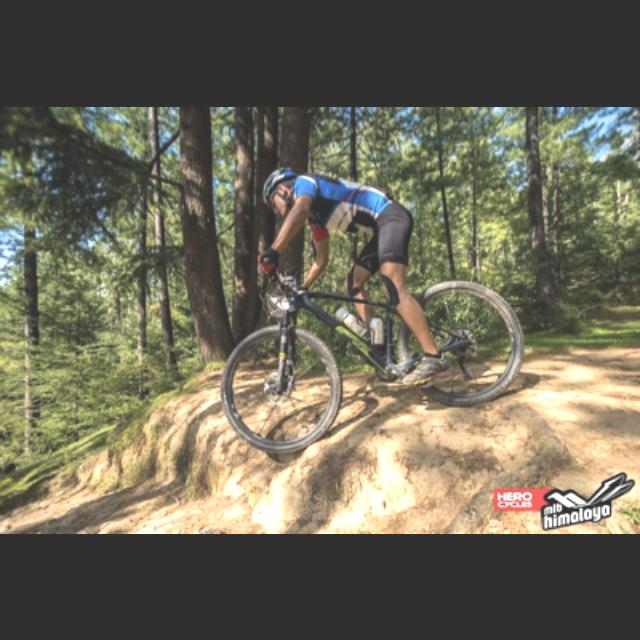With Helmet: (259, 163, 297, 213)
